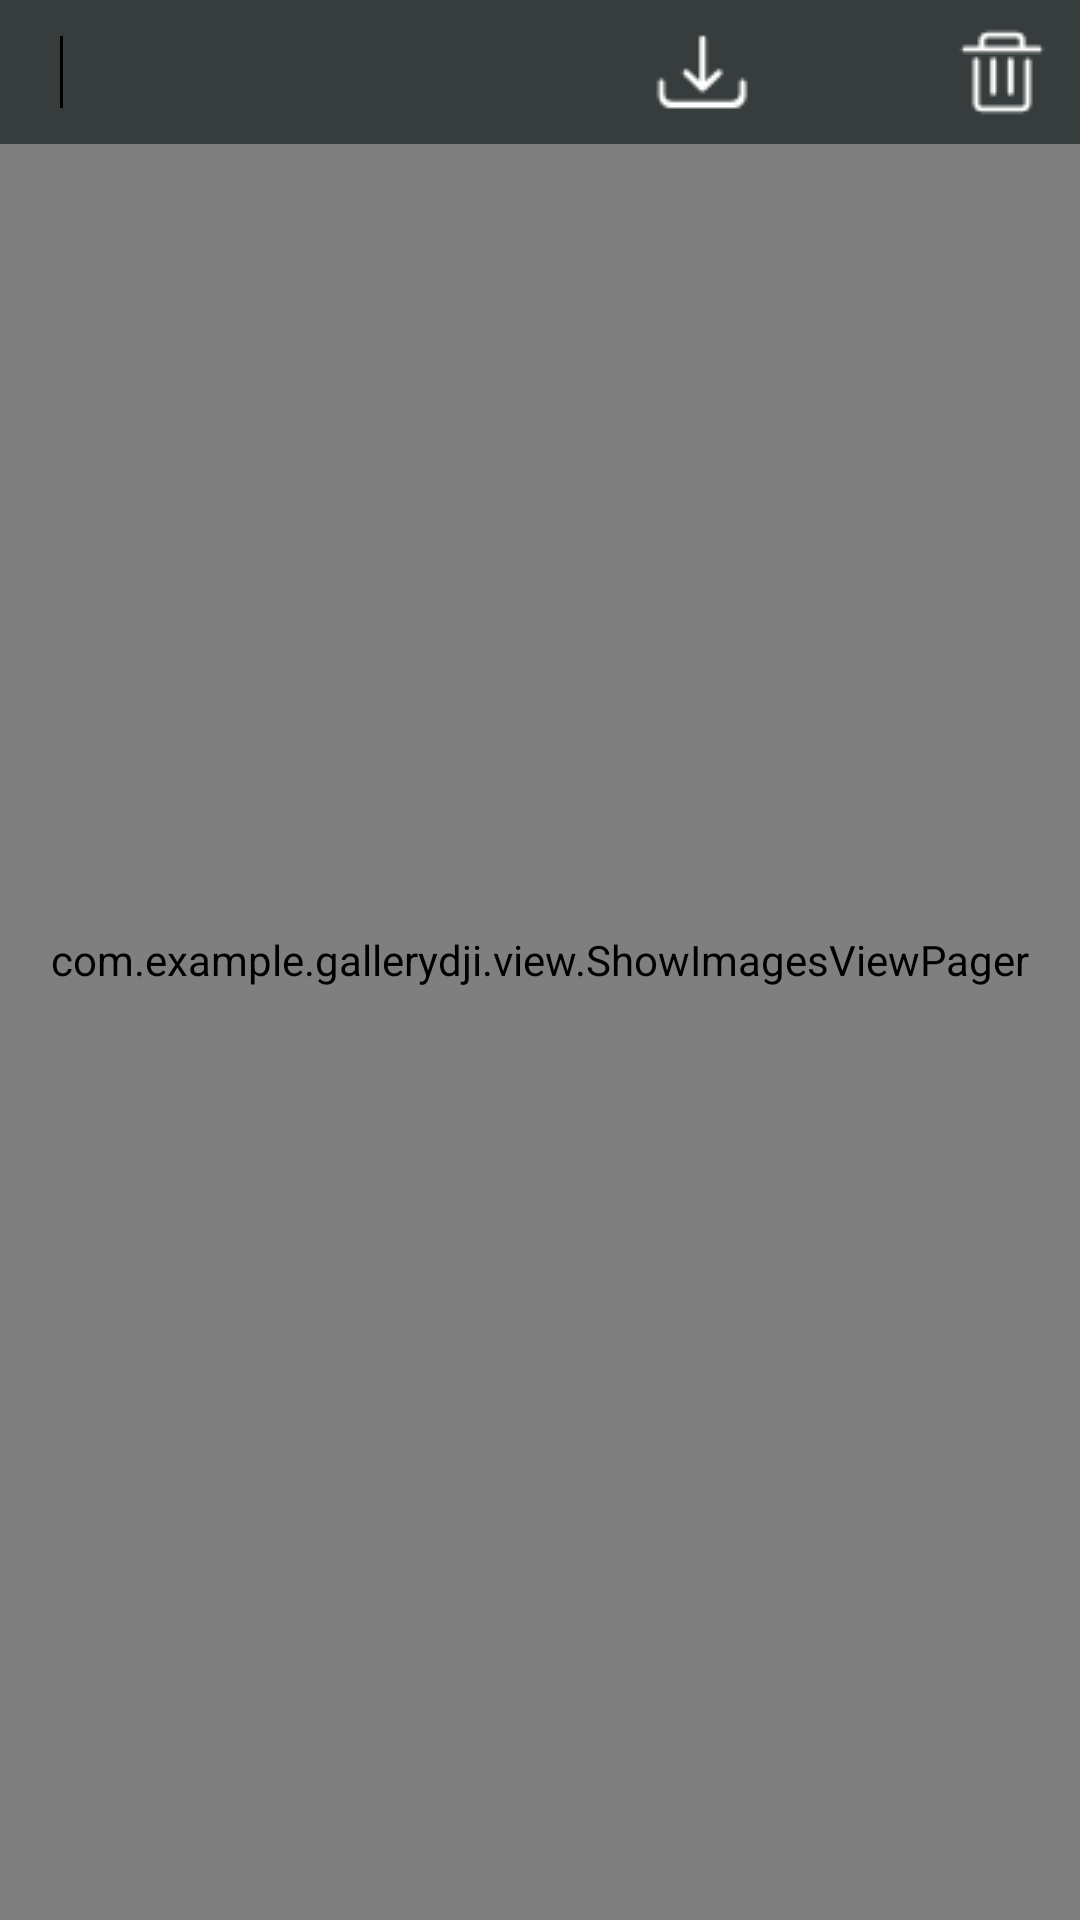

Named icons in this screenshot (1080*1920) and their bounding boxes, (x1, y1, x2, y2):
activity delete: (960, 30, 1044, 114)
activity download: (656, 35, 748, 109)
